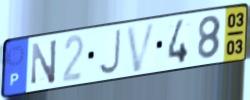2: (60, 33, 87, 86)
4: (166, 17, 190, 65)
8: (196, 14, 222, 61)
J: (96, 27, 123, 76)
N: (30, 37, 59, 87)
V: (124, 20, 158, 75)
